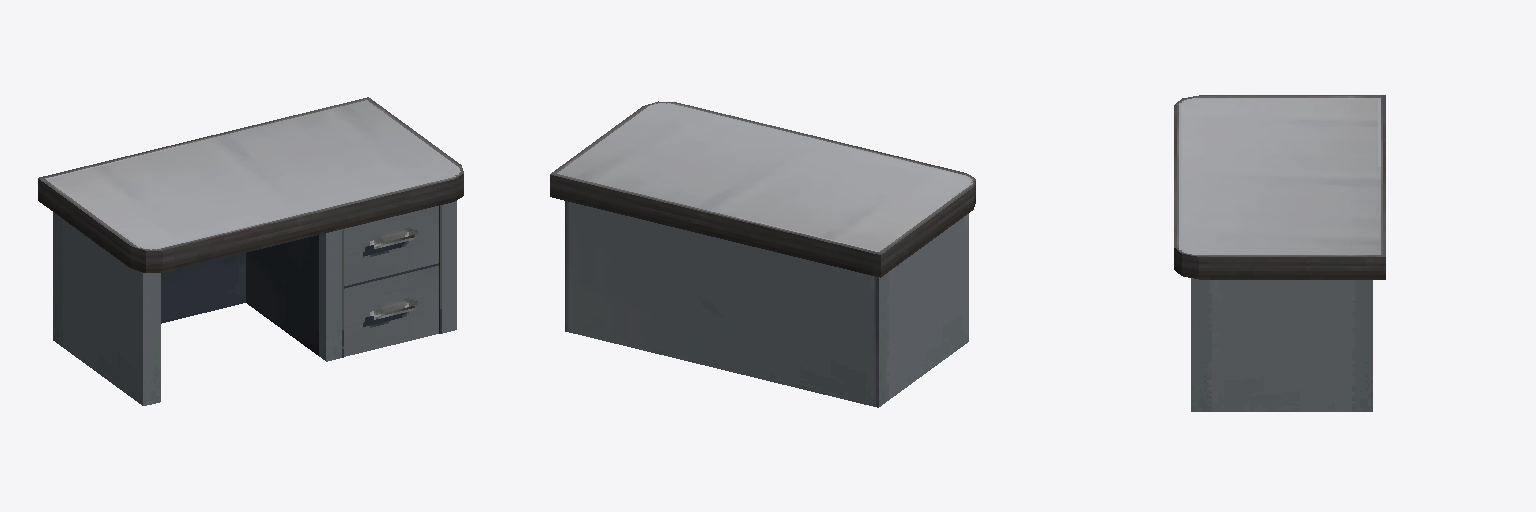
3 views of the same model, side by side, from view 1: azimuth 30°, elevation 25°; view 2: azimuth 150°, elevation 25°; view 3: azimuth 270°, elevation 25° (orthographic).
Visible parts, largest first — view 1: table, cube; view 2: cube, table; view 3: table, cube.
Boxes of the visible parts, box(x1,y1,x2,y2) form: table: box(38, 97, 463, 272); cube: box(53, 201, 456, 405); cube: box(565, 201, 968, 407); table: box(550, 101, 975, 277); table: box(1174, 95, 1385, 279); cube: box(1191, 278, 1372, 411).
Size of the model in its own units: 2.38 by 1.09 by 1.31.
Materials: 1 (1 with a texture image).